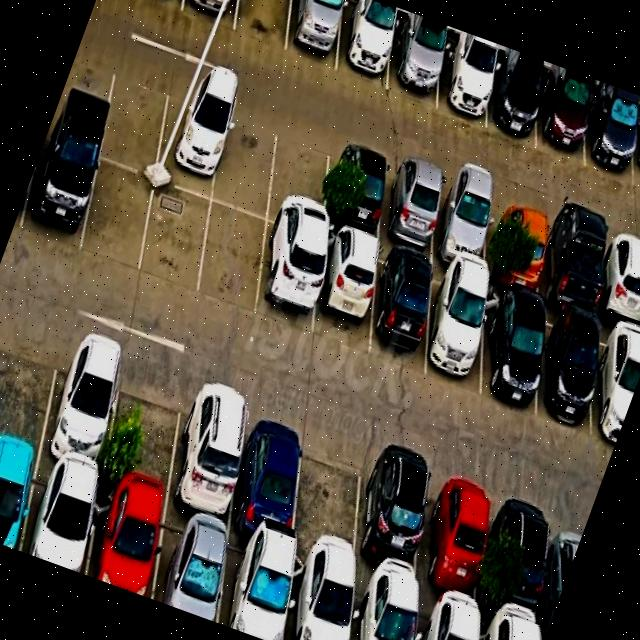empty: (103, 352, 187, 507), (293, 422, 365, 575), (0, 307, 64, 456), (81, 159, 155, 273), (99, 59, 171, 176), (140, 181, 211, 298), (211, 101, 278, 219), (197, 202, 266, 316), (267, 119, 331, 240), (234, 0, 292, 52)
occupied: (39, 328, 125, 482), (168, 375, 249, 529), (230, 398, 307, 549), (356, 443, 431, 597), (419, 463, 488, 619), (489, 488, 553, 640), (20, 134, 100, 253), (21, 461, 99, 575), (155, 79, 228, 200), (152, 508, 228, 623), (87, 485, 163, 599), (312, 229, 378, 355), (218, 533, 293, 640), (369, 248, 431, 372), (425, 268, 484, 396), (255, 224, 320, 336), (481, 289, 537, 416), (537, 307, 594, 430), (324, 139, 387, 242), (542, 214, 599, 319), (543, 507, 588, 640), (284, 555, 353, 640), (381, 158, 439, 259), (592, 322, 640, 442), (489, 195, 543, 297), (434, 175, 489, 275), (336, 0, 395, 90), (536, 71, 589, 166), (486, 57, 540, 147), (584, 87, 633, 186), (436, 38, 488, 127), (387, 21, 441, 106), (286, 0, 343, 71), (351, 580, 417, 640), (0, 448, 38, 551), (604, 233, 640, 329), (416, 599, 477, 640), (182, 0, 239, 30)
